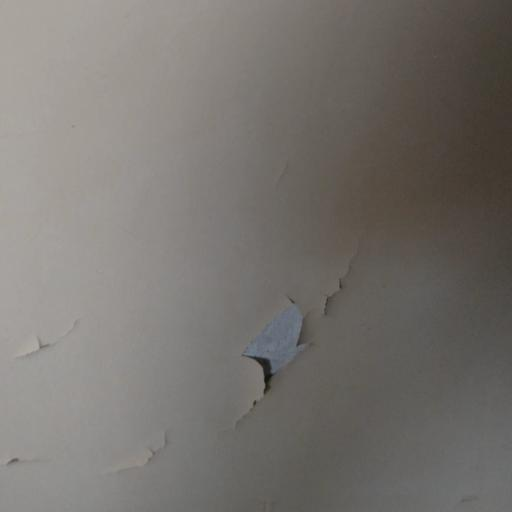peeling: (203, 225, 383, 434), (16, 303, 99, 382), (114, 412, 186, 495), (0, 451, 56, 479)
